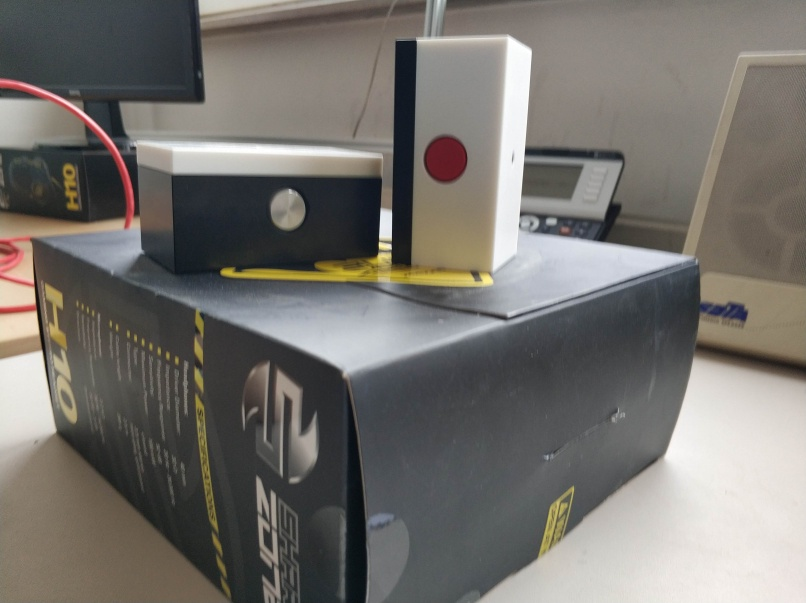black+white+red: (390, 34, 533, 268)
white+black+silver: (133, 139, 385, 277)
